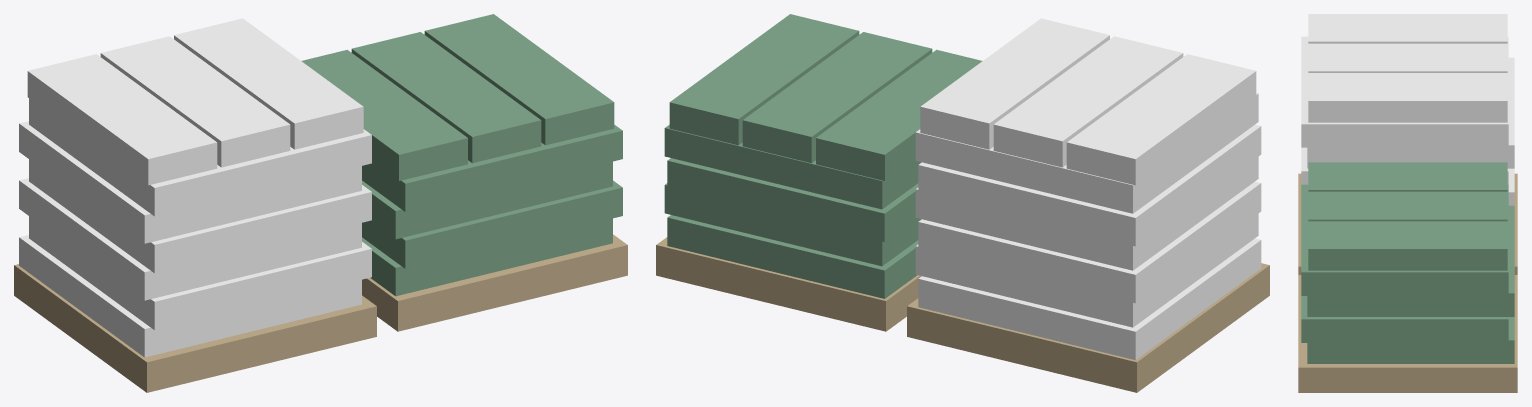
Rendered from scatter1.fbx.
3 views of the same model, side by side, from view 1: azimuth 30°, elevation 25°; view 2: azimuth 150°, elevation 25°; view 3: azimuth 270°, elevation 25° (orthographic). The views are drawn at different scales.
Parts seen in each view (by area): view 1: a1096/0/scatter1; view 2: a1096/0/scatter1; view 3: a1096/0/scatter1.
Part boxes in pixels (<box>): a1096/0/scatter1: <box>14,14,627,392</box>; a1096/0/scatter1: <box>656,14,1269,392</box>; a1096/0/scatter1: <box>1298,14,1517,392</box>.
Size of the model in its own units: 2.3 by 1.04 by 1.1.
